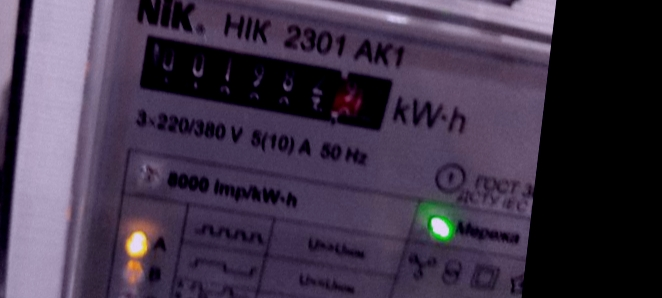0: (189, 50, 209, 81), (159, 44, 179, 74)
1: (221, 54, 236, 84)
2: (310, 67, 331, 98)
8: (280, 65, 299, 94)
9: (340, 77, 363, 107), (249, 60, 267, 91)
screen: (120, 20, 410, 148)
